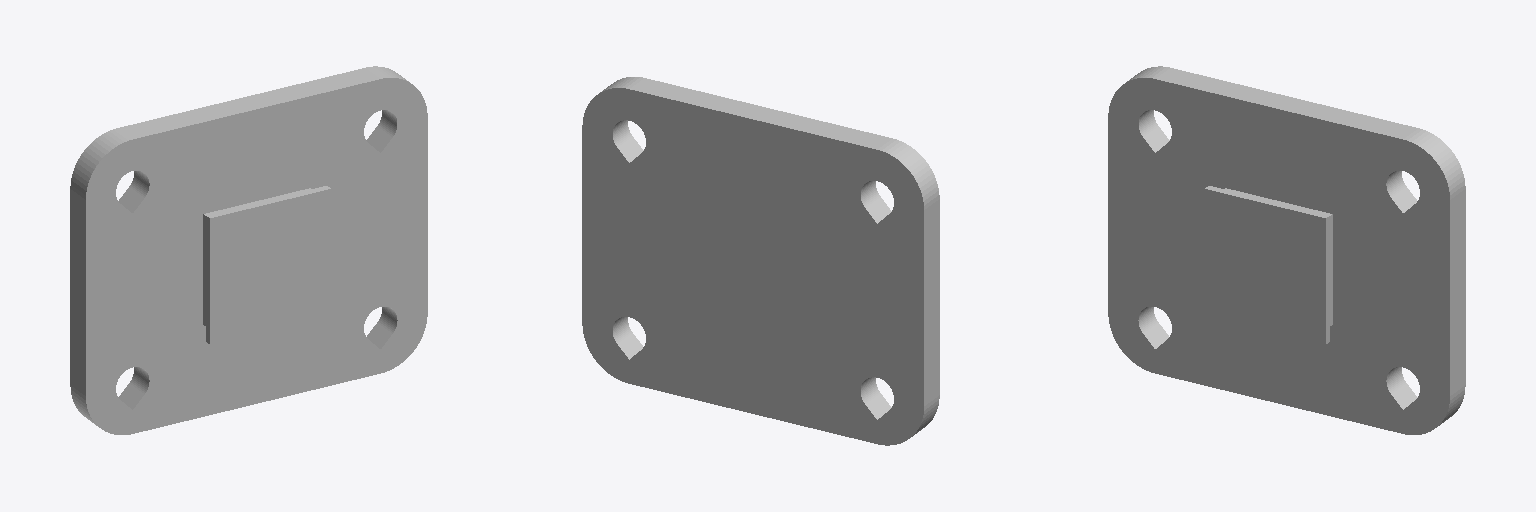
File: base_collisions_waveshare_mounting_plate_so101_v2_mesh.obj
3 views of the same model, side by side, from view 1: azimuth 30°, elevation 25°; view 2: azimuth 150°, elevation 25°; view 3: azimuth 330°, elevation 25° (orthographic).
Bounding box in the file's own units: 0.051 × 0.042 × 0.0076.